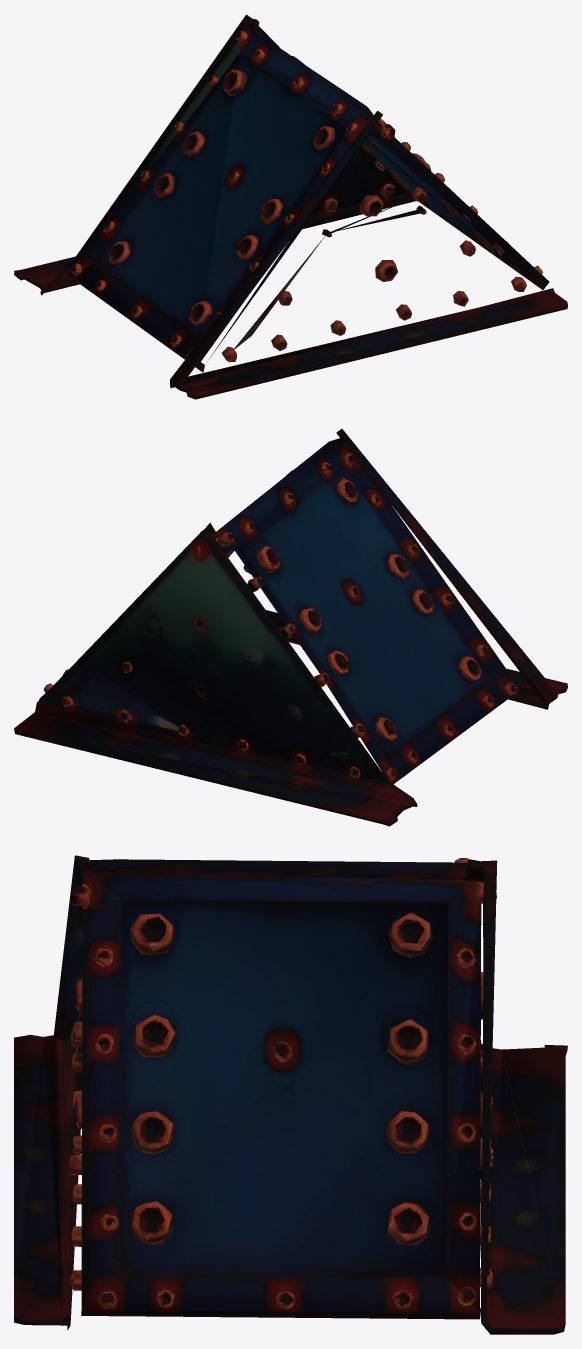
File: roof_hardtop.glb
3 views of the same model, one above another, from view 1: azimuth 30°, elevation 25°; view 2: azimuth 150°, elevation 25°; view 3: azimuth 270°, elevation 25° (orthographic). The views are drawn at different scales.
Visible parts, largest first — view 1: tripo_node_ed25adac-ad3c-47a8-a6f7-c1aed5548e9a; view 2: tripo_node_ed25adac-ad3c-47a8-a6f7-c1aed5548e9a; view 3: tripo_node_ed25adac-ad3c-47a8-a6f7-c1aed5548e9a.
Boxes of the visible parts, bbox=[...] form: tripo_node_ed25adac-ad3c-47a8-a6f7-c1aed5548e9a: bbox=[14, 14, 567, 399]; tripo_node_ed25adac-ad3c-47a8-a6f7-c1aed5548e9a: bbox=[14, 429, 567, 826]; tripo_node_ed25adac-ad3c-47a8-a6f7-c1aed5548e9a: bbox=[14, 855, 567, 1334].
Size of the model in its own units: 1 by 0.5764 by 0.82.
Materials: 1 (1 with a texture image).
